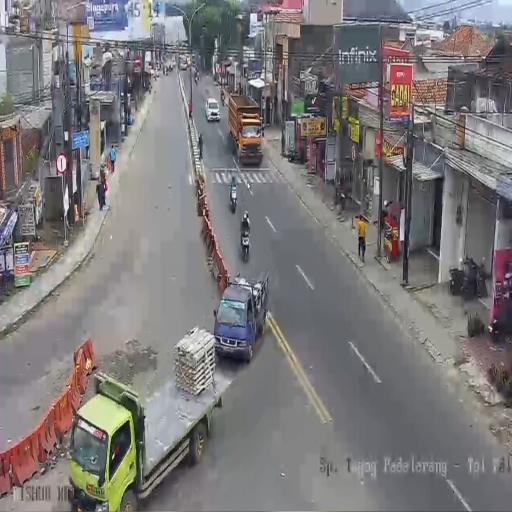3: (214, 272, 268, 363), (226, 90, 263, 166), (144, 50, 154, 76)
car: (205, 97, 220, 121), (179, 55, 188, 70), (168, 59, 174, 71)
truck: (490, 276, 512, 341), (240, 226, 250, 262), (286, 146, 301, 164), (229, 186, 237, 214), (148, 78, 152, 94), (194, 73, 199, 85)
